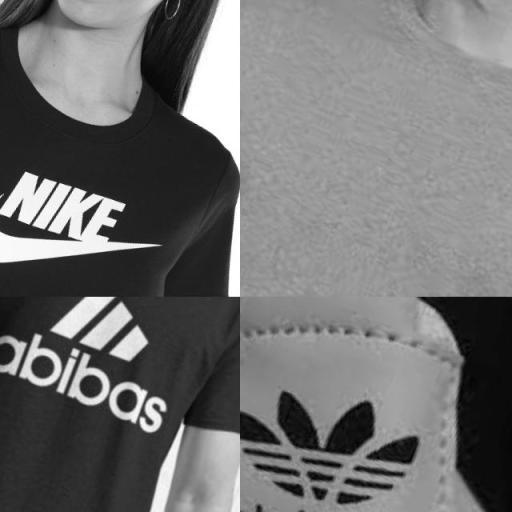Adidas: (240, 328, 490, 512), (0, 296, 218, 459), (0, 318, 182, 447), (37, 297, 181, 380)
Nike: (0, 121, 198, 297)
